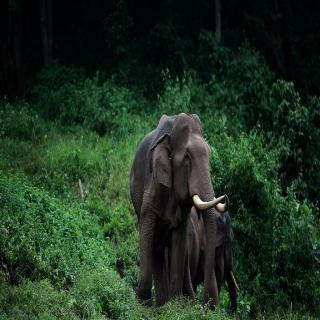Elephant: (128, 110, 224, 317)
